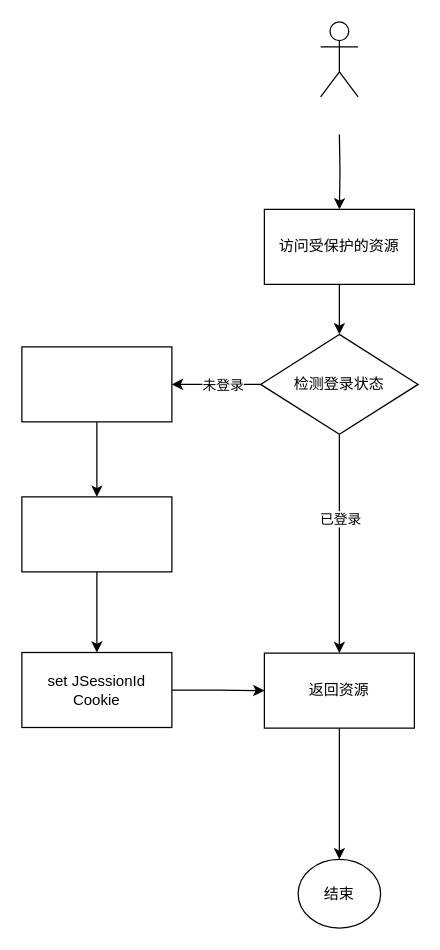
The diagram is 440 pixels wide and 950 high, and some of its shapes have lost their labels. Here are the shapes that lost their labels. From the top down, the box of each, then its label:
(319, 21, 358, 97): Actor
(21, 346, 172, 422): 重定向到登录页面
(21, 496, 172, 572): 登录
